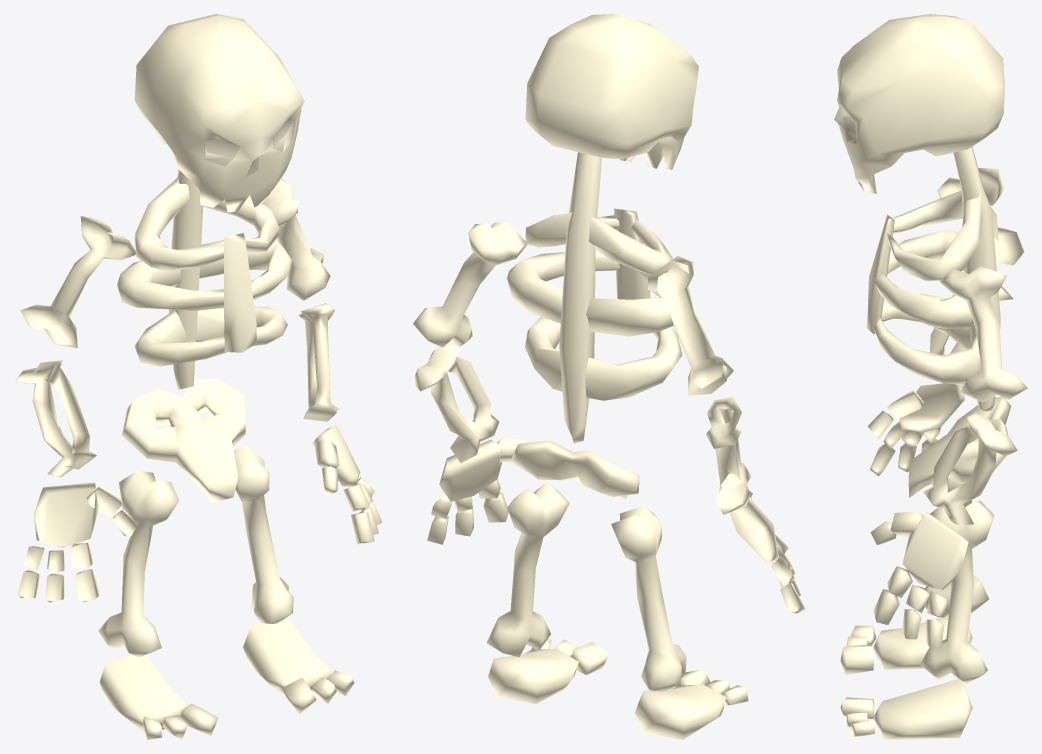
File: Skellie02.glb
The picture shows the model from 3 angles, left to right: view 1: azimuth 30°, elevation 25°; view 2: azimuth 150°, elevation 25°; view 3: azimuth 270°, elevation 25°; orthographic projection. The views are drawn at different scales.
Visible parts, largest first — view 1: Skellie02; view 2: Skellie02; view 3: Skellie02.
Part boxes in pixels (x1,y1,x2,y2): Skellie02: (14, 14, 382, 739); Skellie02: (411, 14, 805, 739); Skellie02: (834, 14, 1027, 739).
Size of what is drawn, in the model's own units: 0.9084 by 1.6 by 0.4174.
1 material, 1 textured.
